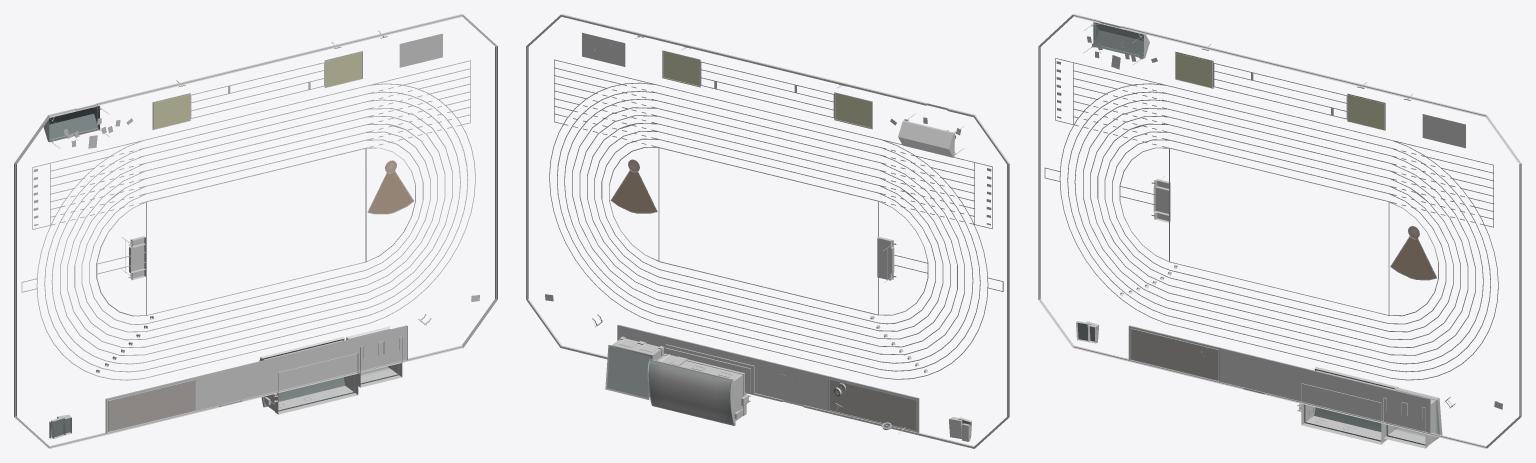
The model's file is SM_000442_merge_w40h004_atlas3_sand_metal_whiteline_3.fbx.
The picture shows the model from 3 angles, left to right: view 1: azimuth 30°, elevation 25°; view 2: azimuth 150°, elevation 25°; view 3: azimuth 330°, elevation 25°; orthographic projection.
Visible parts, largest first — view 1: SM_000442.001; view 2: SM_000442.001; view 3: SM_000442.001.
Part boxes in pixels (x1,y1,x2,y2): SM_000442.001: (14,14,497,448); SM_000442.001: (526,14,1009,448); SM_000442.001: (1038,14,1521,448).
Bounding box in the file's own units: 70.5 × 49.78 × 4.64.
